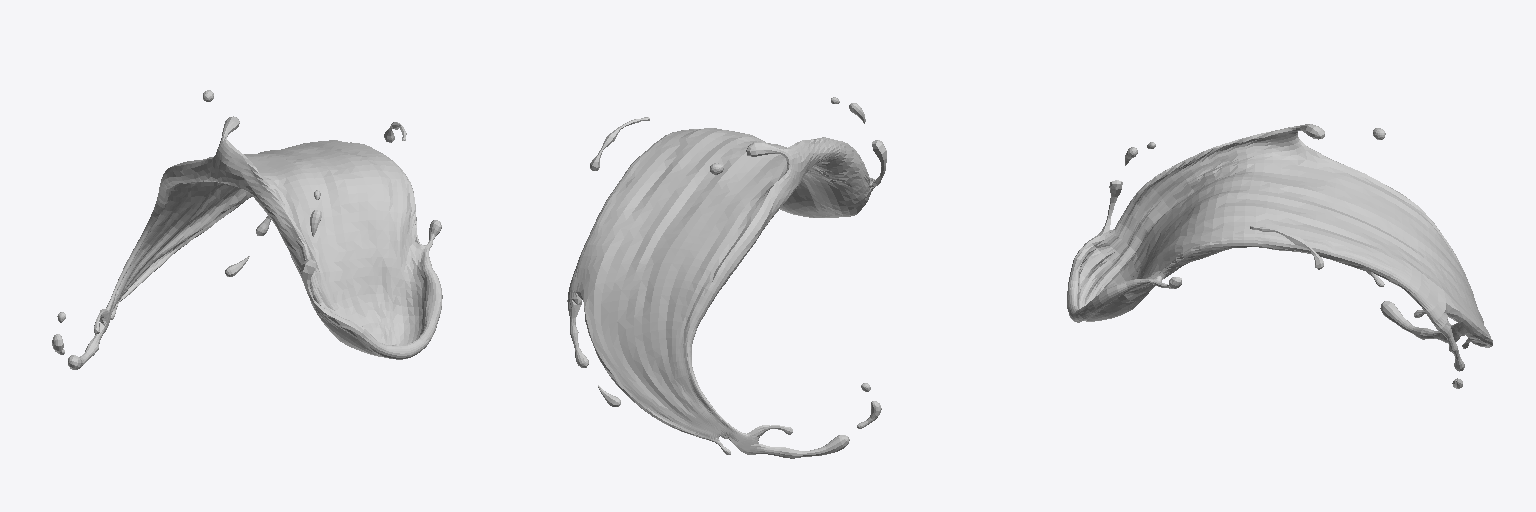
The model's file is Splash.obj.
The picture shows the model from 3 angles: view 1: azimuth 30°, elevation 25°; view 2: azimuth 150°, elevation 25°; view 3: azimuth 270°, elevation 25°; orthographic projection.
Visible parts, largest first — view 1: Chocolate_Splash_Free_002; view 2: Chocolate_Splash_Free_002; view 3: Chocolate_Splash_Free_002.
Part boxes in pixels (bbox=[...]): Chocolate_Splash_Free_002: bbox=[52, 90, 442, 369]; Chocolate_Splash_Free_002: bbox=[567, 97, 886, 458]; Chocolate_Splash_Free_002: bbox=[1067, 124, 1492, 388].
Size of the model in its own units: 0.531 by 0.4119 by 0.6212.